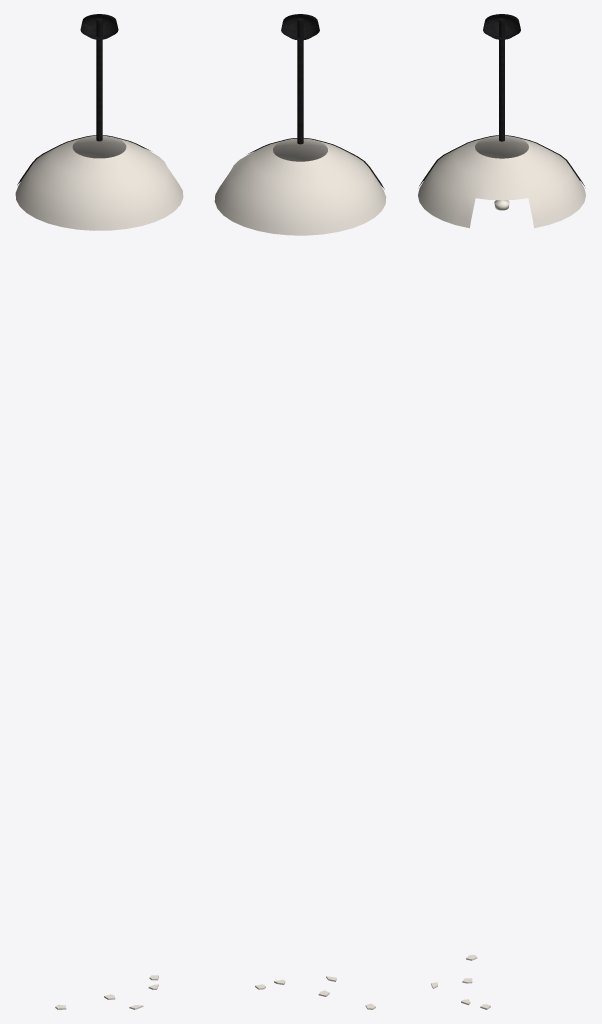
The model's file is PRP_CeilingLamp_Broken.fbx.
3 views of the same model, side by side, from view 1: azimuth 30°, elevation 25°; view 2: azimuth 150°, elevation 25°; view 3: azimuth 270°, elevation 25° (orthographic). The views are drawn at different scales.
Visible parts, largest first — view 1: Lamp_Shade, Lamp_Rod; view 2: Lamp_Shade, Lamp_Rod; view 3: Lamp_Shade, Lamp_Rod.
Boxes of the visible parts, box(x1,y1,x2,y2) form: Lamp_Shade: box(15, 135, 183, 230); Lamp_Rod: box(80, 14, 118, 141); Lamp_Shade: box(214, 138, 386, 235); Lamp_Rod: box(281, 14, 319, 144); Lamp_Shade: box(418, 135, 585, 228); Lamp_Rod: box(483, 14, 520, 141).
Bounding box in the file's own units: 43.29 × 280 × 45.
